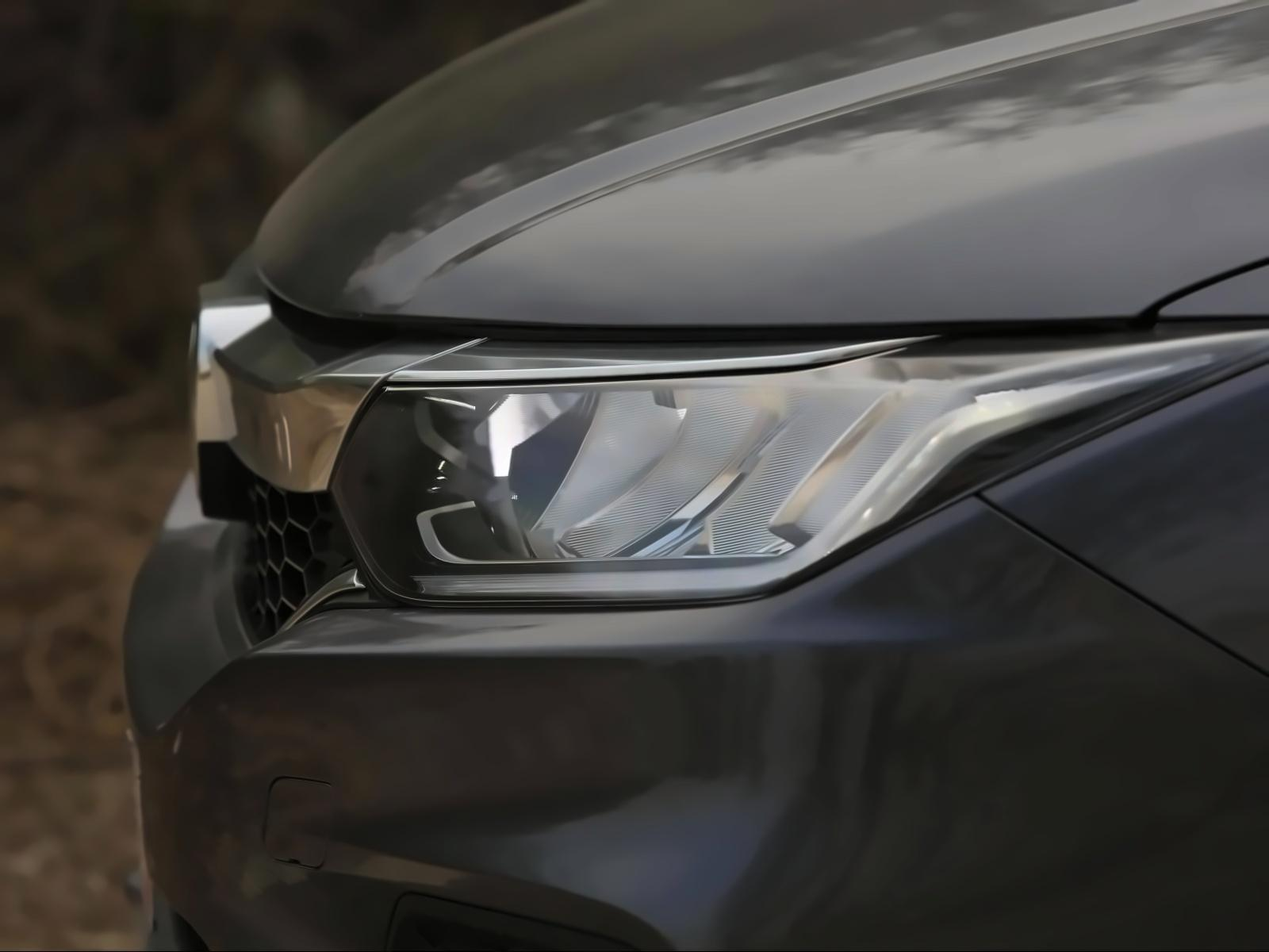Car hood: (206, 0, 1269, 334)
Front bumper: (90, 511, 1269, 952)
Headlight - -L-: (315, 291, 1269, 621)
